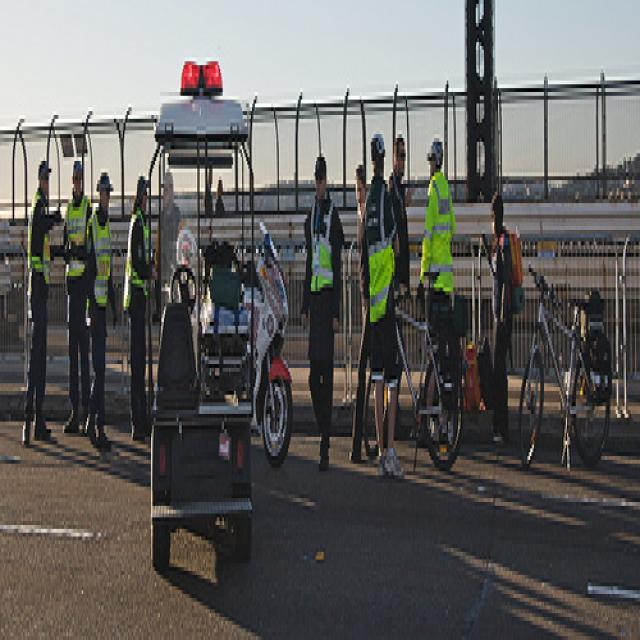motor: (253, 215, 293, 469)
